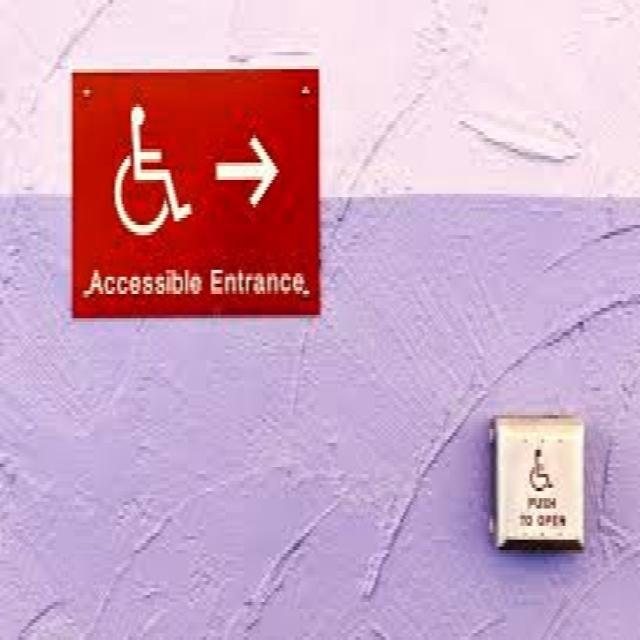ISA: (111, 95, 198, 245), (522, 440, 561, 501)
